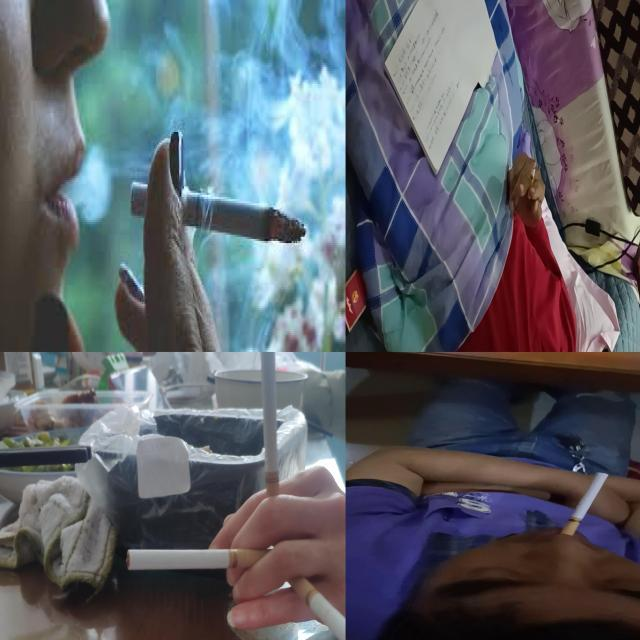smoking: (130, 180, 308, 242), (258, 352, 284, 546), (286, 569, 346, 640), (126, 547, 283, 571), (562, 472, 610, 535), (527, 159, 536, 200)
